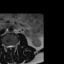CCS_normal: (9, 43, 11, 51)
LFS_normal: (13, 43, 15, 49)
LLS_normal: (11, 43, 13, 49)
RFS_normal: (5, 44, 7, 49)
RLS_normal: (7, 43, 9, 49)
